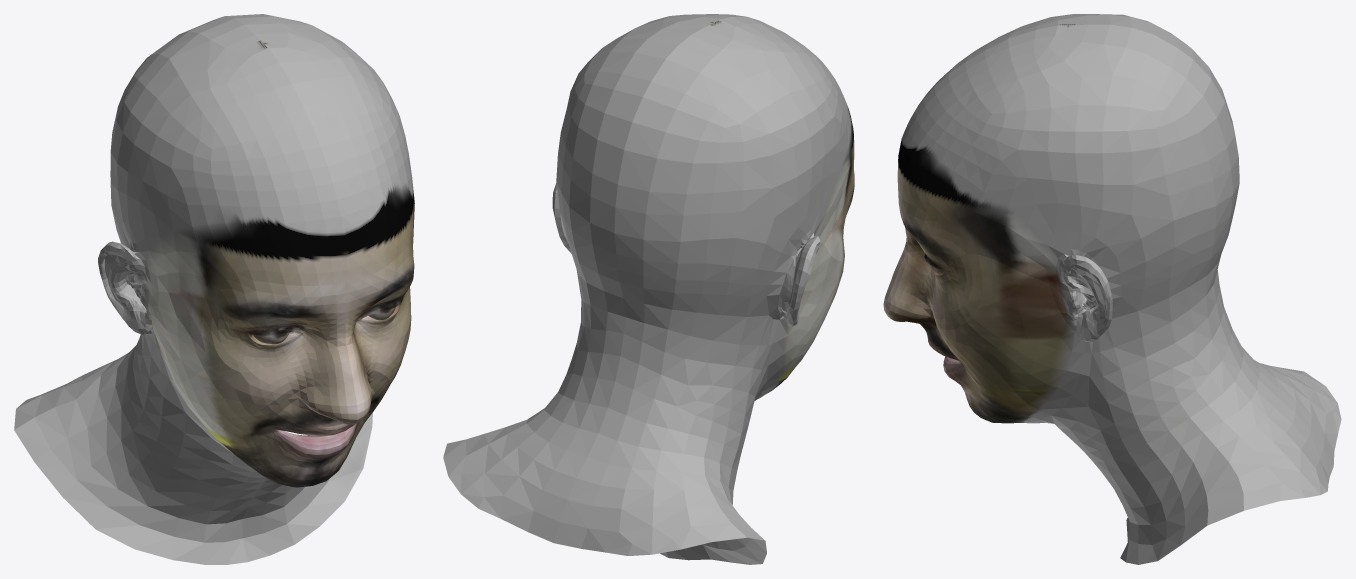
Rendered from ezgif-frame-021.obj.
The picture shows the model from 3 angles, left to right: view 1: azimuth 30°, elevation 25°; view 2: azimuth 150°, elevation 25°; view 3: azimuth 270°, elevation 25°; orthographic projection. The views are drawn at different scales.
Bounding box in the file's own units: 0.2083 × 0.3291 × 0.2641.
1 material, 1 textured.
